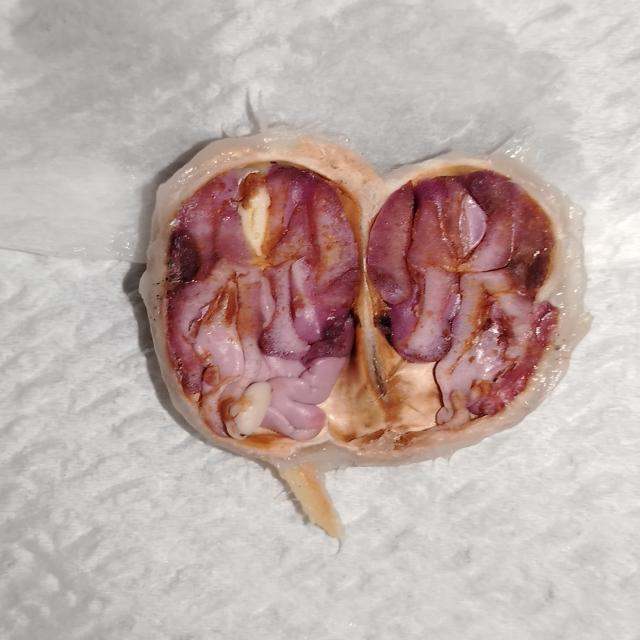Trinitario: (126, 157, 372, 463), (367, 158, 580, 462)
